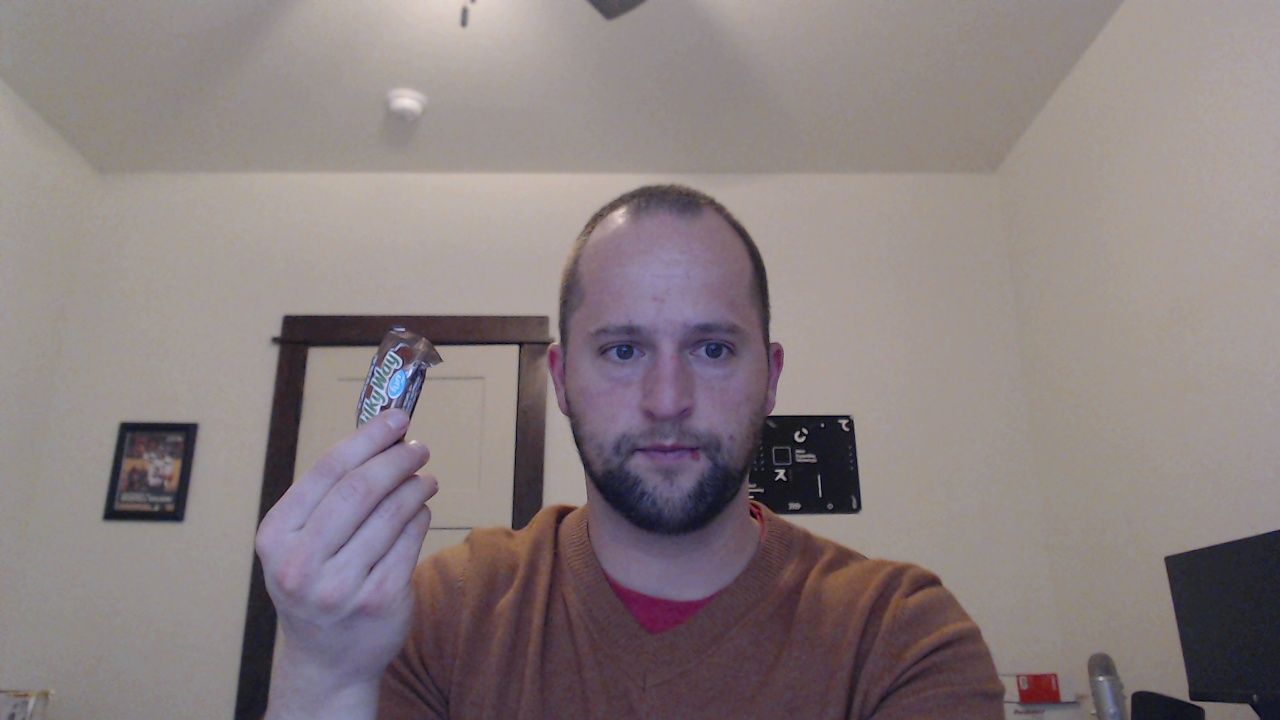milky_way: (327, 298, 439, 464)
